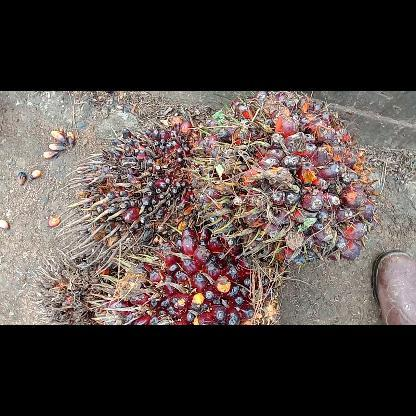TBS abnormal: (58, 112, 204, 276), (33, 240, 125, 324)
TBS masak: (188, 92, 378, 266), (86, 226, 286, 324)
